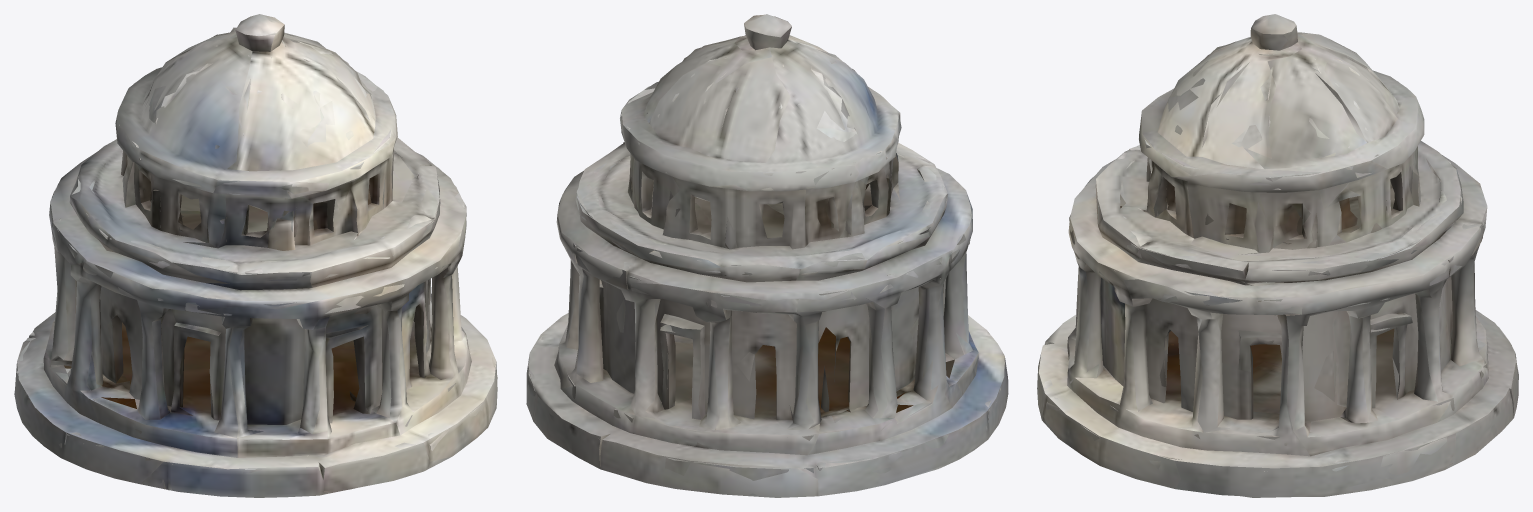
File: councilHall.glb
3 views of the same model, side by side, from view 1: azimuth 30°, elevation 25°; view 2: azimuth 150°, elevation 25°; view 3: azimuth 270°, elevation 25° (orthographic).
Visible parts, largest first — view 1: level; view 2: level; view 3: level.
Part boxes in pixels (x1=…): level: x1=14, y1=14, x2=497, y2=497; level: x1=526, y1=14, x2=1008, y2=497; level: x1=1037, y1=14, x2=1518, y2=497.
Bounding box in the file's own units: 0.8366 × 0.751 × 0.8322.
1 material, 1 textured.
